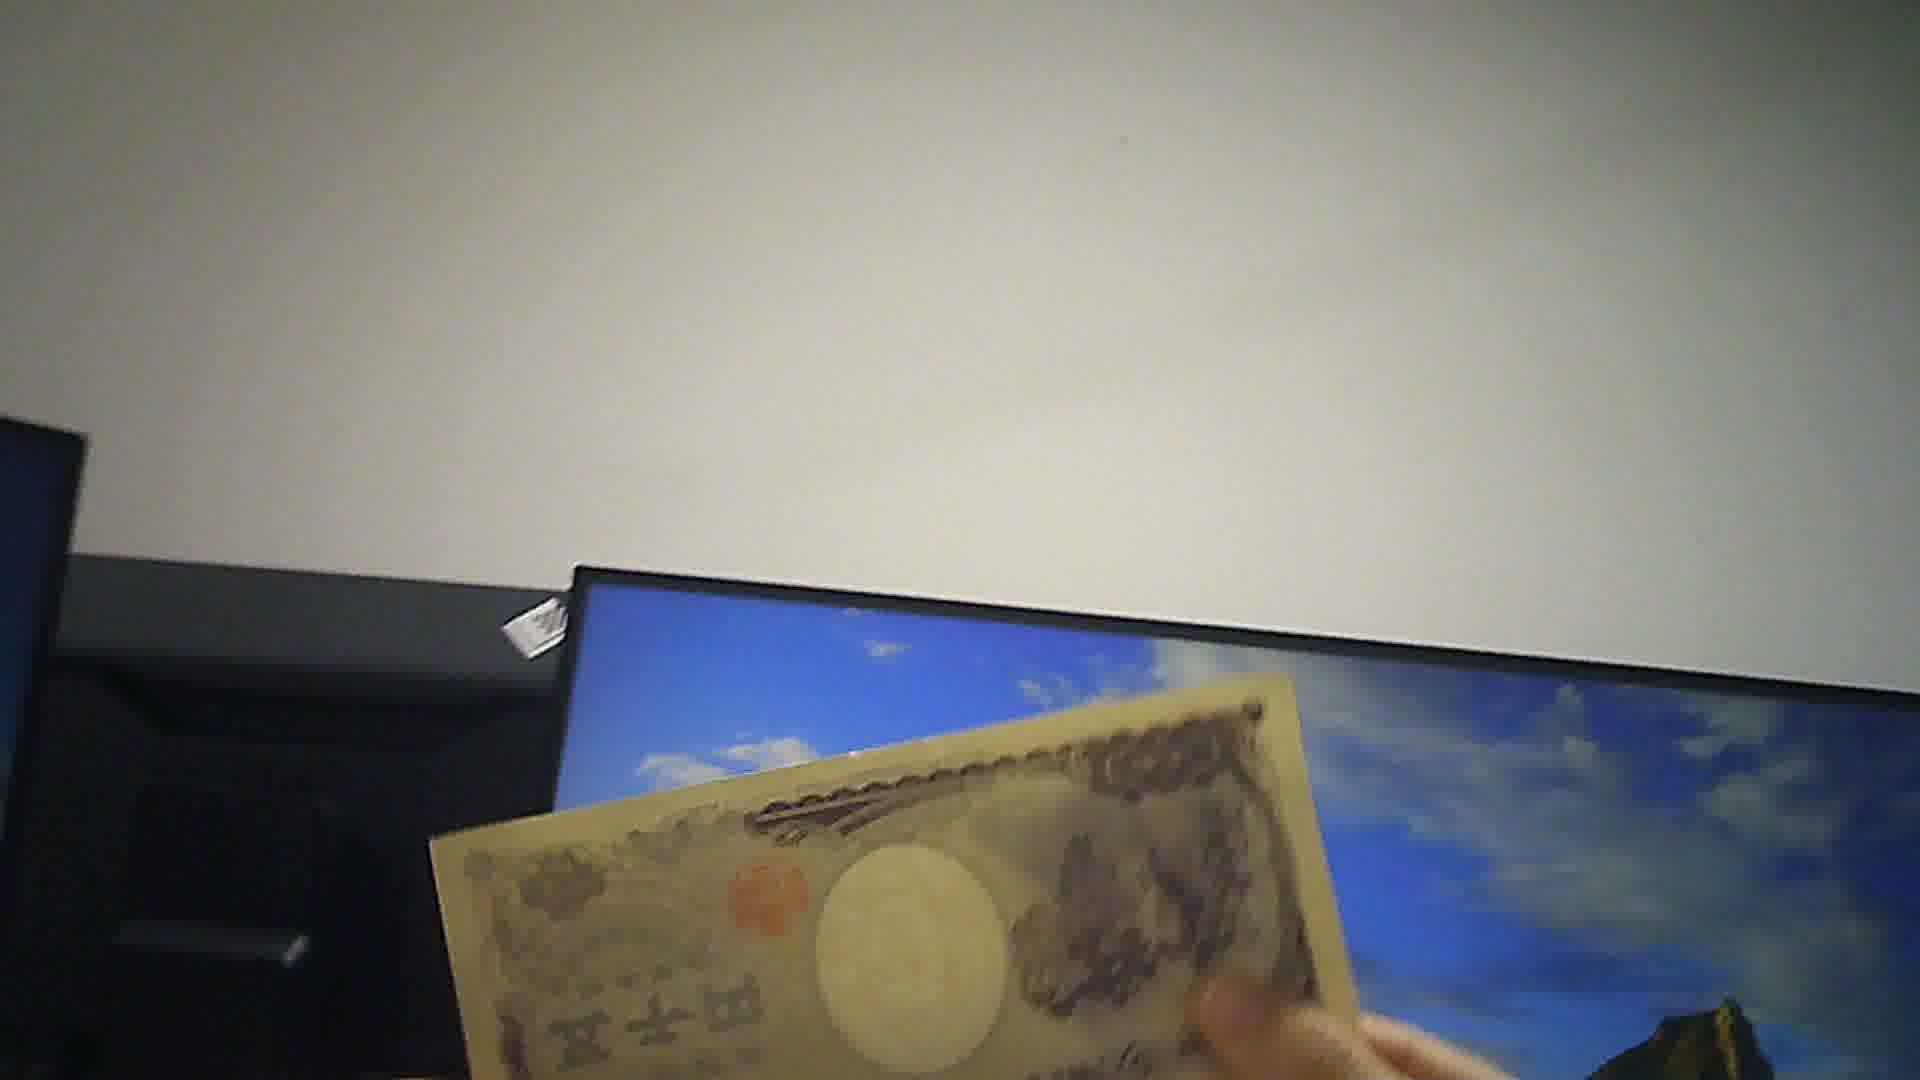5,000 Yen: (415, 702, 1331, 1079)
